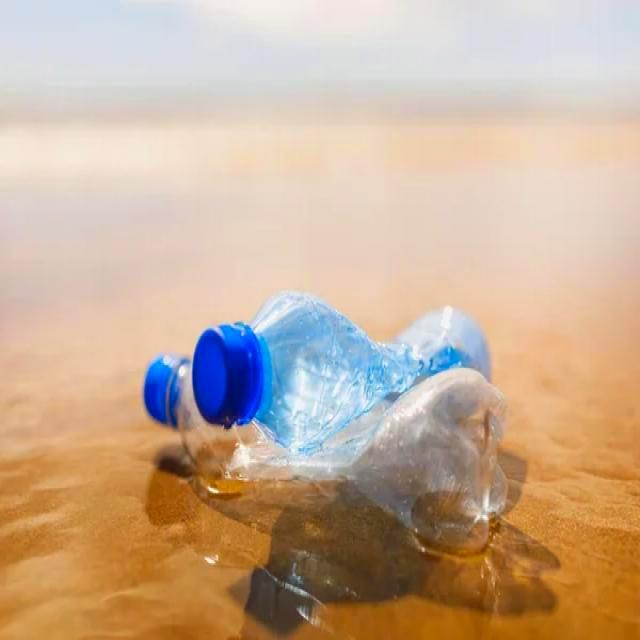Plastic: (142, 348, 521, 562), (192, 289, 497, 438)
